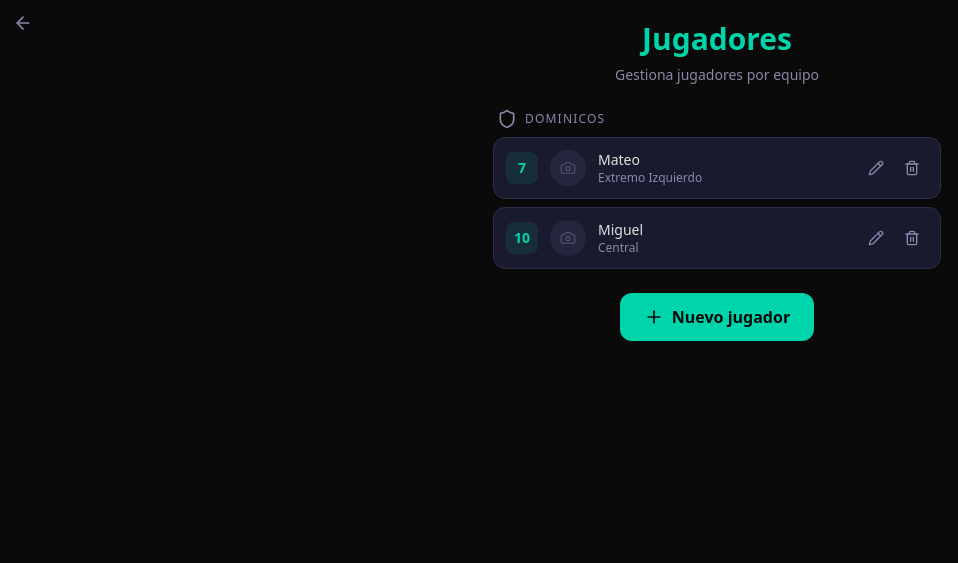
it: PlayersPage › shows duplicate jersey error when editing to existing number
Click the 2nd button.
click(876, 168)  # box [860,152,892,184]
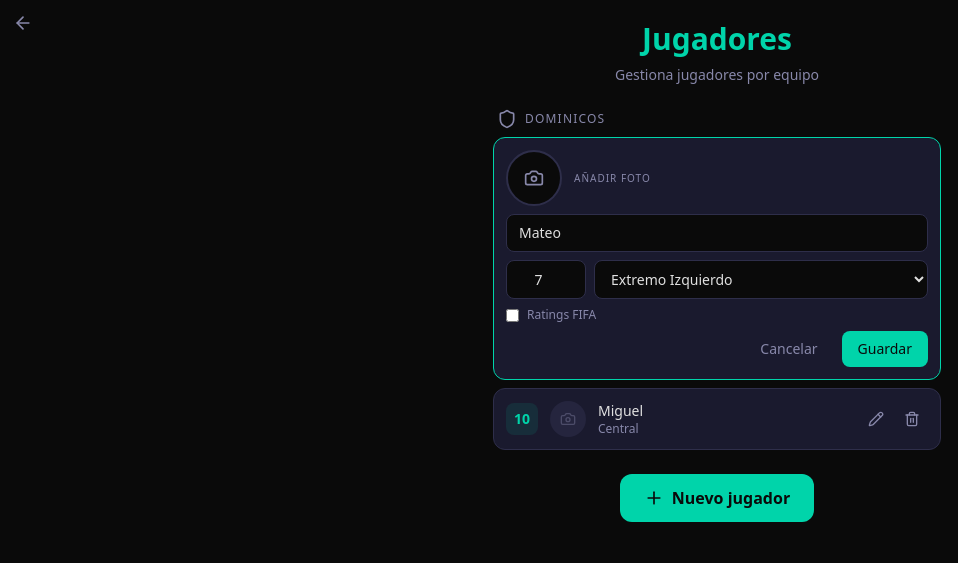
Replace the text in the number field showing "7" with "10" at (546, 280), box [506,260,586,299]
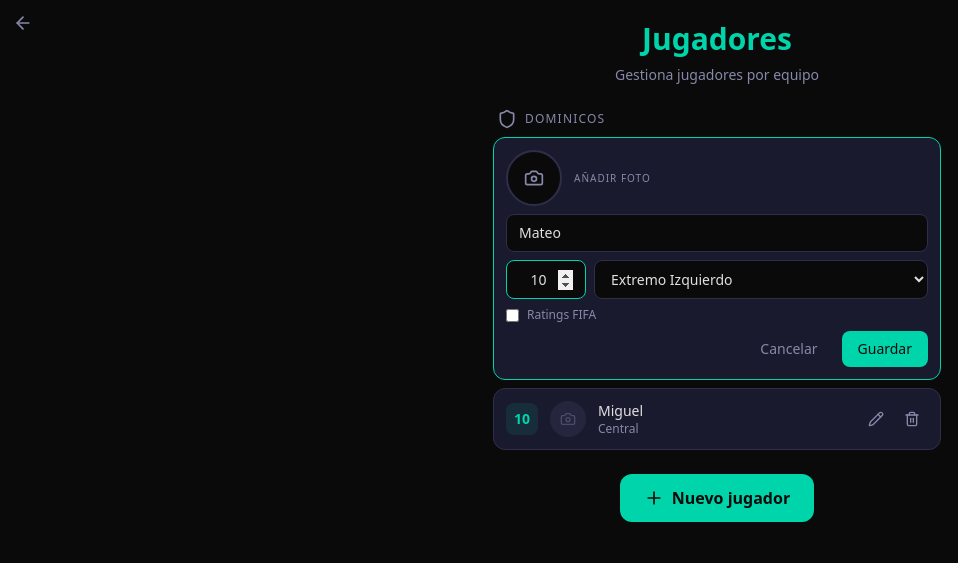
Click the button "Guardar".
click(885, 349)  # box [842,331,928,367]
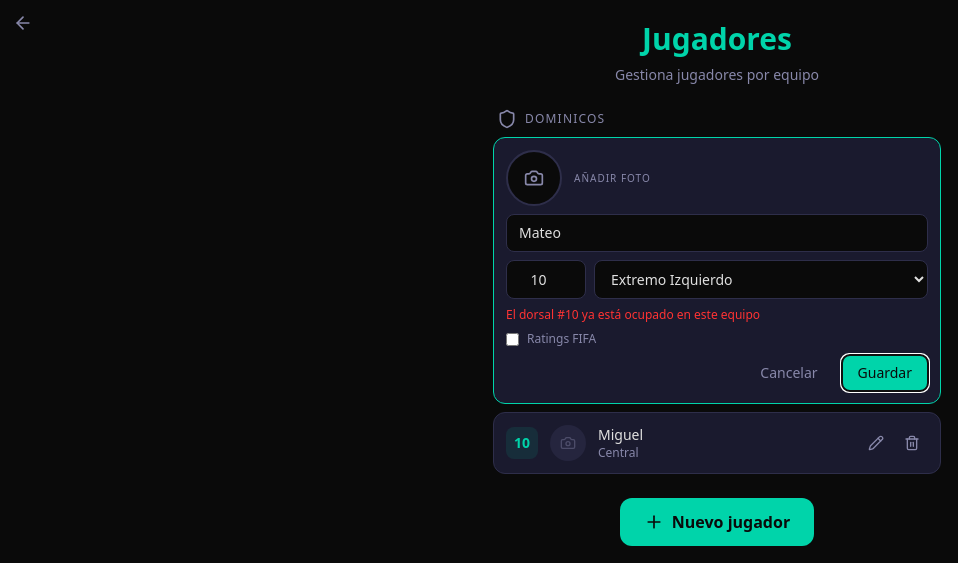
expect the text "El dorsal #10 ya está ocupado en este equipo" is shown: met, box [506,306,760,323]
